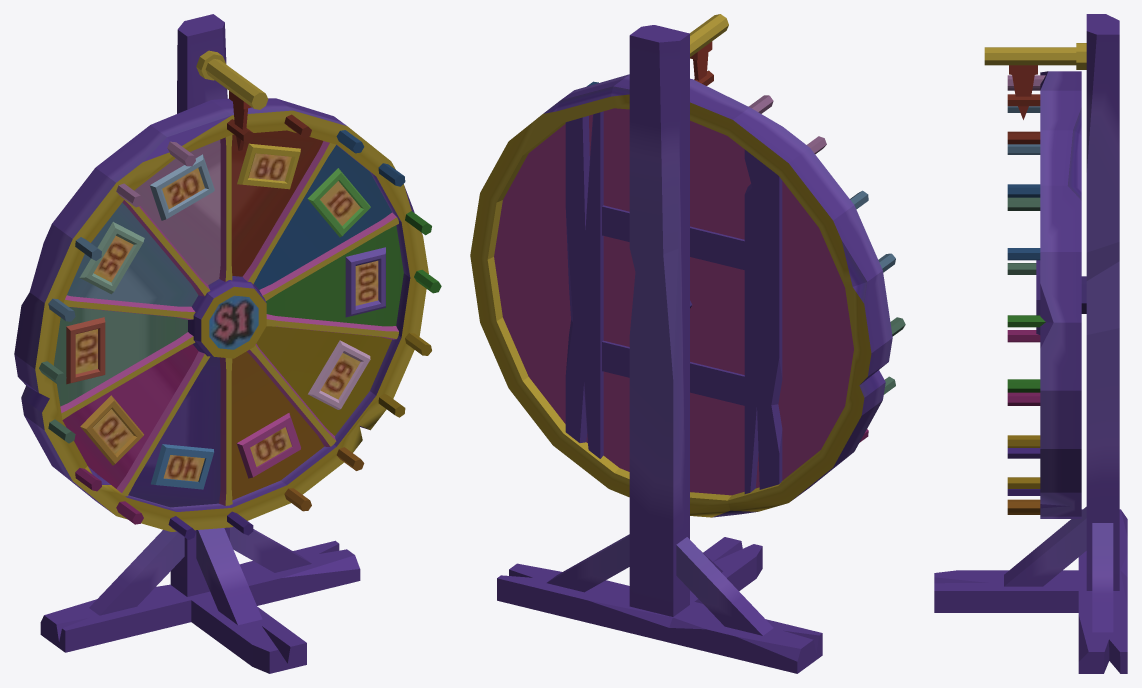
File: prize-wheel.glb
The picture shows the model from 3 angles, left to right: view 1: azimuth 30°, elevation 25°; view 2: azimuth 150°, elevation 25°; view 3: azimuth 270°, elevation 25°; orthographic projection. The views are drawn at different scales.
Parts seen in each view (by area): view 1: SM_Prop_Prize_Wheel_01; view 2: SM_Prop_Prize_Wheel_01; view 3: SM_Prop_Prize_Wheel_01.
Part boxes in pixels (x1,y1,x2,y2): SM_Prop_Prize_Wheel_01: (14,14,441,673); SM_Prop_Prize_Wheel_01: (470,14,905,673); SM_Prop_Prize_Wheel_01: (934,14,1127,673).
Bounding box in the file's own units: 178 × 251 × 76.29.
Materials: 1 (1 with a texture image).
